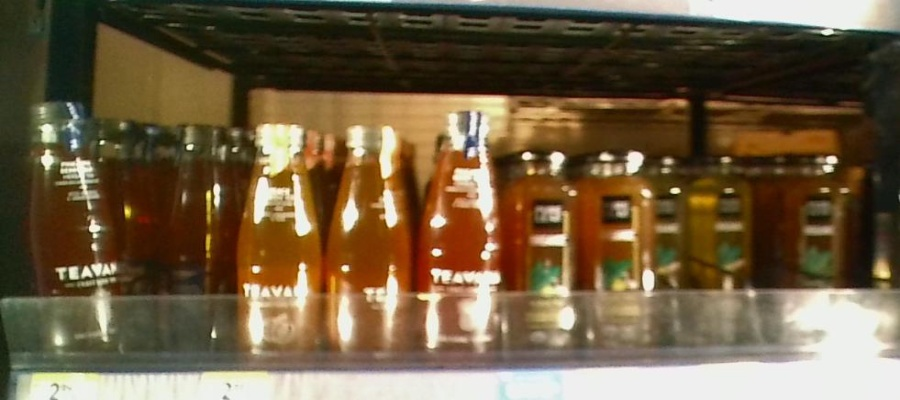bottle: (28, 91, 126, 357), (417, 109, 505, 361), (326, 123, 415, 358), (237, 117, 321, 360), (580, 143, 659, 355), (164, 114, 228, 346), (506, 146, 579, 349), (780, 153, 846, 290), (692, 150, 757, 287), (654, 152, 693, 292)
